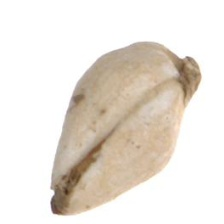L1: (168, 50, 202, 105), (50, 164, 76, 217)
L2: (49, 41, 201, 215)
